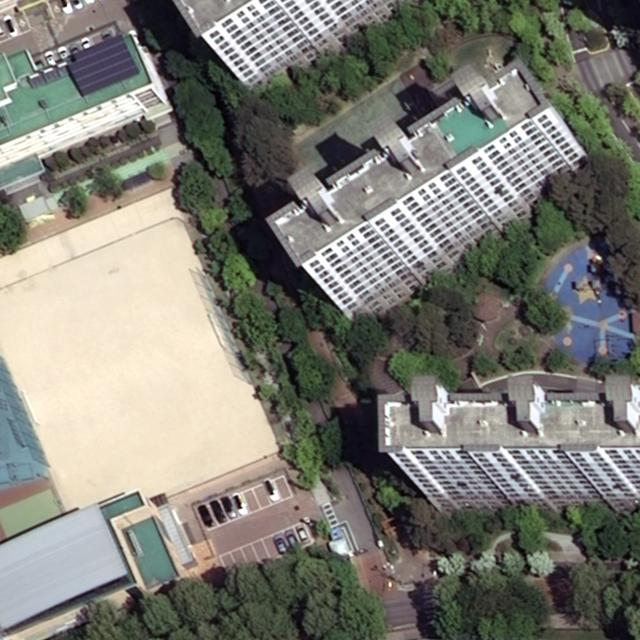panel: (66, 33, 141, 97)
